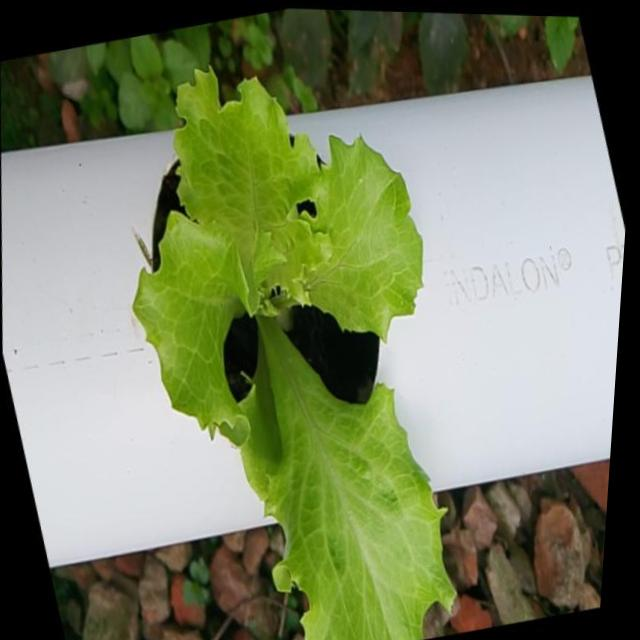Baby: (130, 54, 454, 640)
